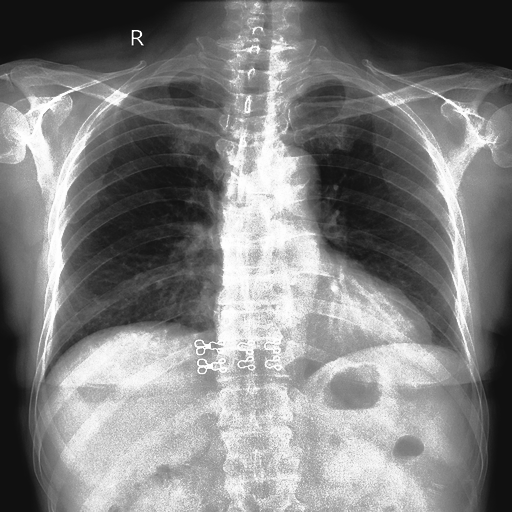Calcification: (294, 69, 376, 92), (139, 69, 217, 85)
Consolidation: (262, 146, 321, 194)
Nodule/Mass: (208, 281, 434, 354)
